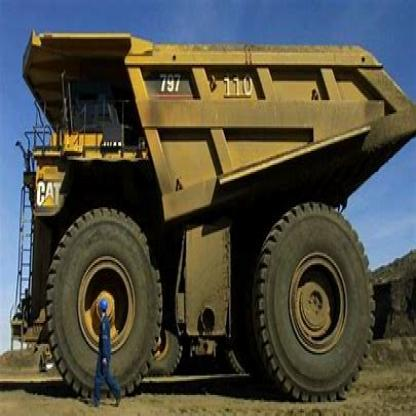dump_truck: (10, 23, 413, 402)
